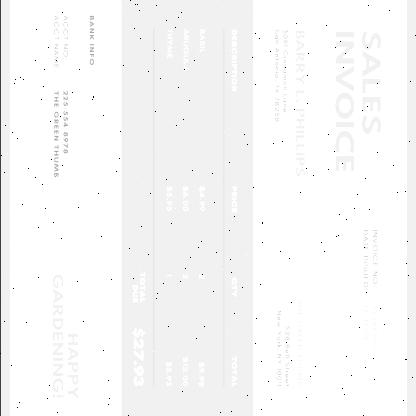Paragraph: (50, 10, 98, 184), (332, 24, 384, 176), (270, 26, 308, 182), (49, 268, 84, 404), (126, 268, 150, 390), (274, 296, 304, 390), (360, 224, 380, 354)
Table: (154, 13, 246, 400)
